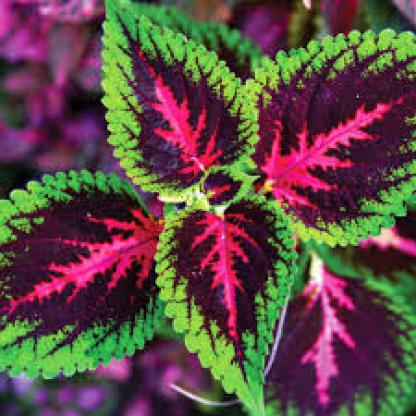Bunga Coleus: (22, 30, 403, 382)
